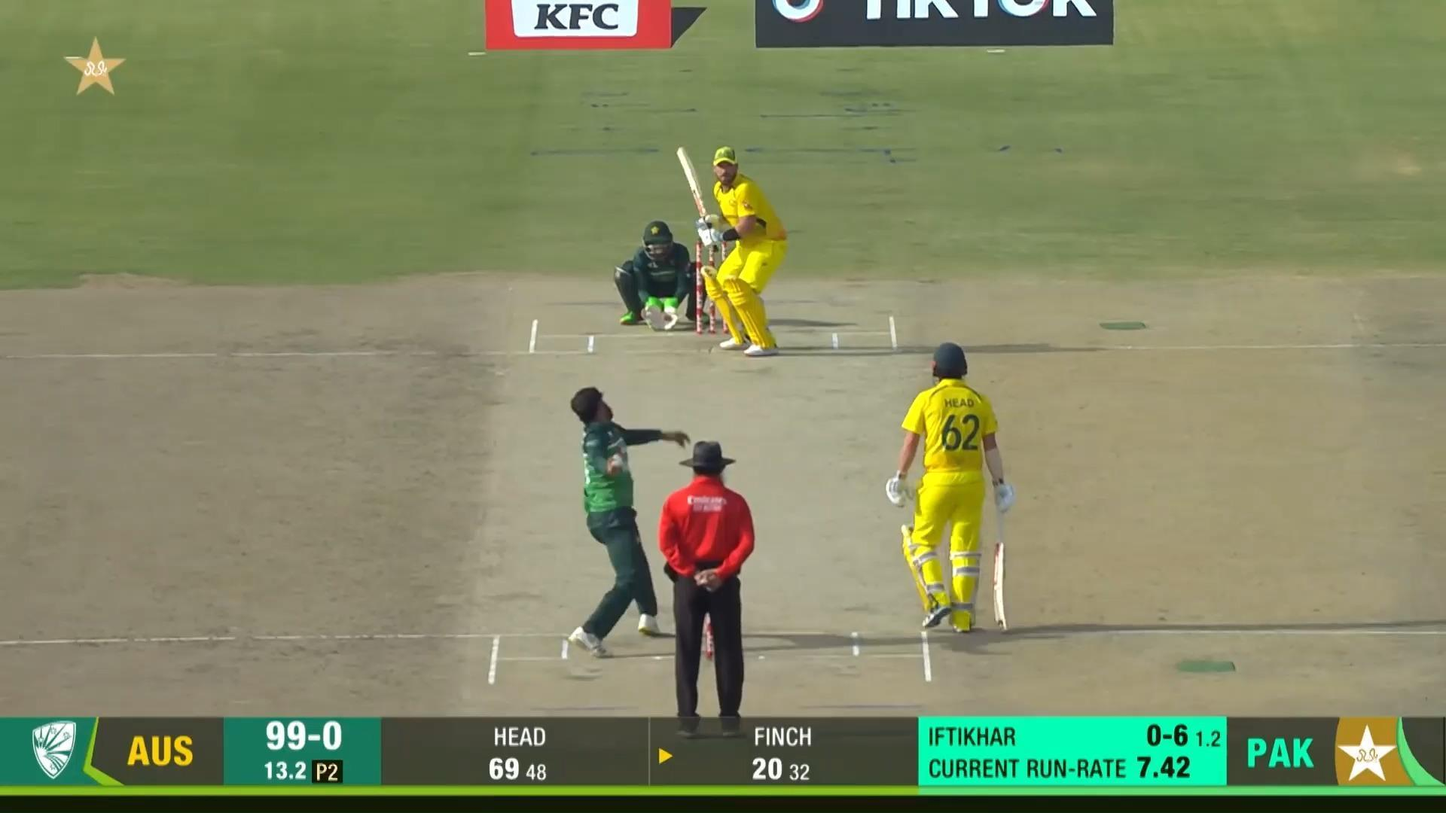BM 1: (674, 143, 790, 357)
BO: (569, 384, 692, 659)
